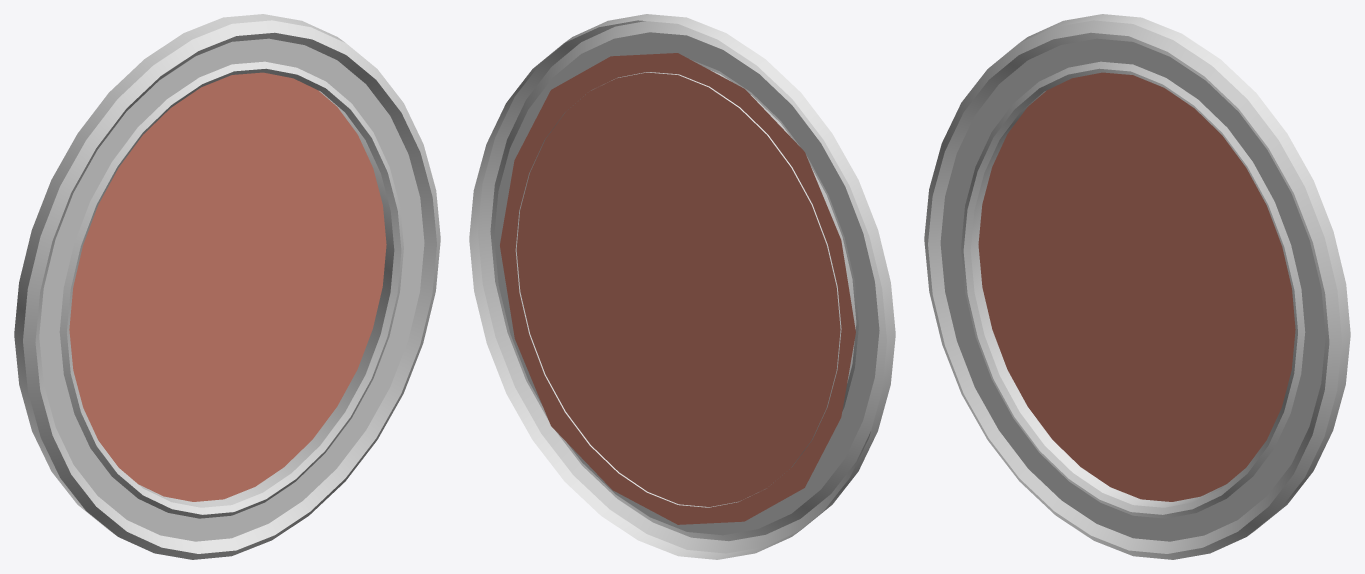
The model's file is SM_Props_Decor_09.fbx.
3 renders of one model, left to right at view 1: azimuth 30°, elevation 25°; view 2: azimuth 150°, elevation 25°; view 3: azimuth 330°, elevation 25°, orthographic.
Parts seen in each view (by area): view 1: SM_Props_Decor_09; view 2: SM_Props_Decor_09; view 3: SM_Props_Decor_09.
Boxes of the visible parts, x1,y1,x2,y2 form: SM_Props_Decor_09: [14, 14, 440, 559]; SM_Props_Decor_09: [469, 14, 895, 559]; SM_Props_Decor_09: [924, 14, 1350, 559].
Bounding box in the file's own units: 161 × 196 × 8.79.
